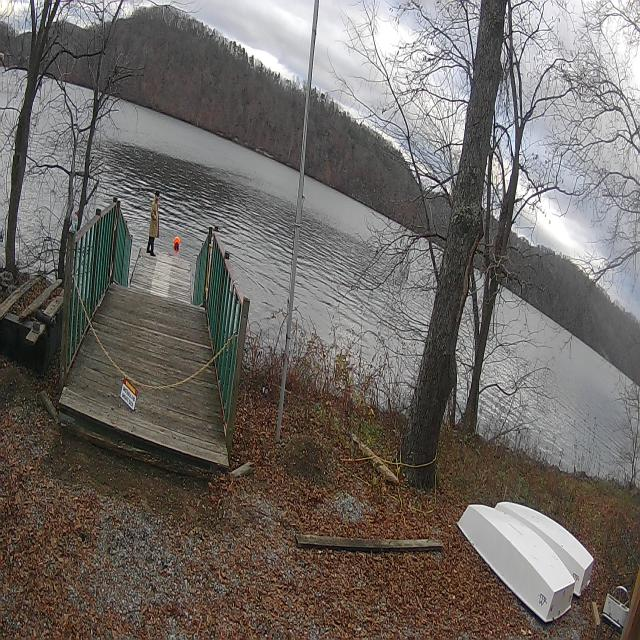Buoy: (174, 236, 181, 250)
